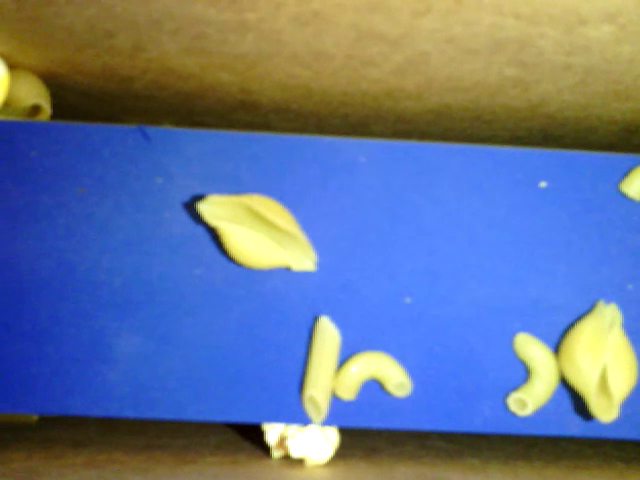elbow: (505, 331, 559, 419), (333, 350, 416, 405)
penne: (302, 311, 344, 426)
shell: (544, 300, 639, 427), (196, 190, 320, 281), (1, 66, 57, 125)
